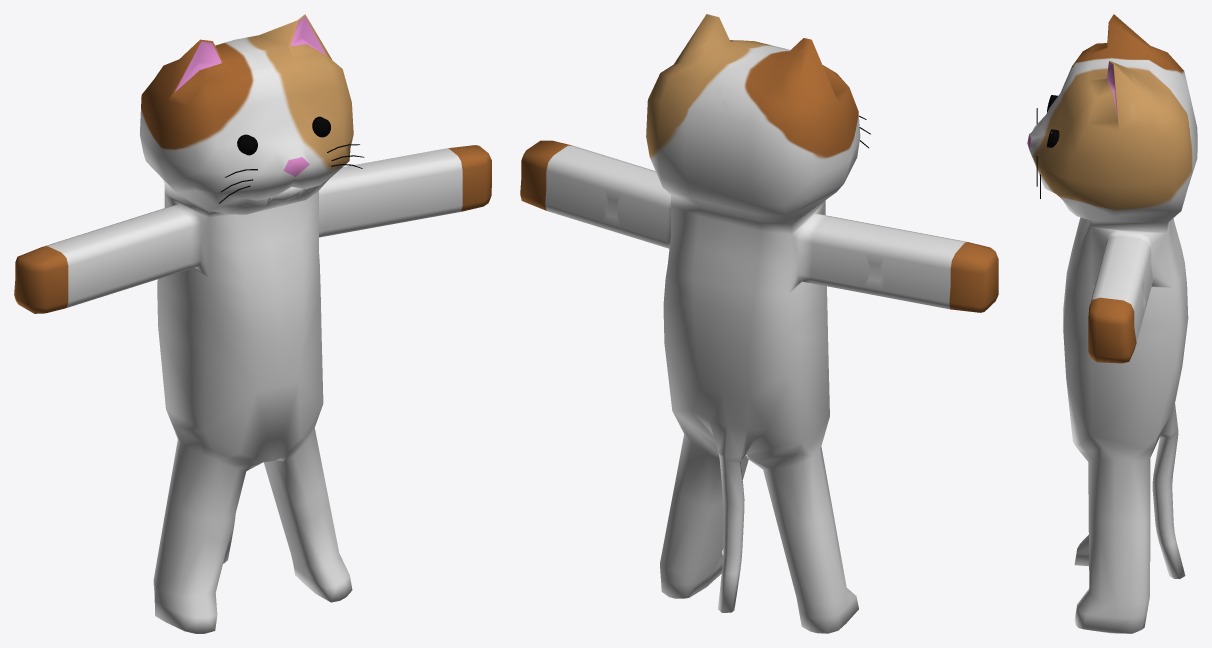
The model's file is Cat.fbx.
3 views of the same model, side by side, from view 1: azimuth 30°, elevation 25°; view 2: azimuth 150°, elevation 25°; view 3: azimuth 270°, elevation 25° (orthographic). The views are drawn at different scales.
Parts seen in each view (by area): view 1: Cube; view 2: Cube; view 3: Cube.
Part boxes in pixels (bbox=[...]): Cube: bbox=[14, 14, 491, 633]; Cube: bbox=[520, 14, 998, 633]; Cube: bbox=[1027, 14, 1197, 633].
Bounding box in the file's own units: 0.8381 × 1 × 0.2761.
Materials: 1 (1 with a texture image).
